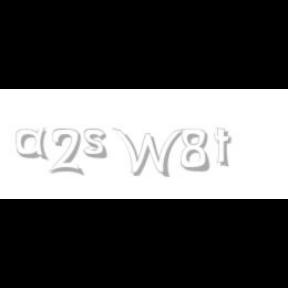2: (48, 128, 82, 176)
8: (180, 128, 210, 172)
W: (111, 128, 183, 178)
a: (16, 128, 52, 160)
s: (83, 128, 111, 160)
t: (214, 128, 236, 168)
